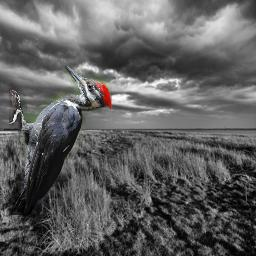Woodpecker: (9, 64, 112, 215)
